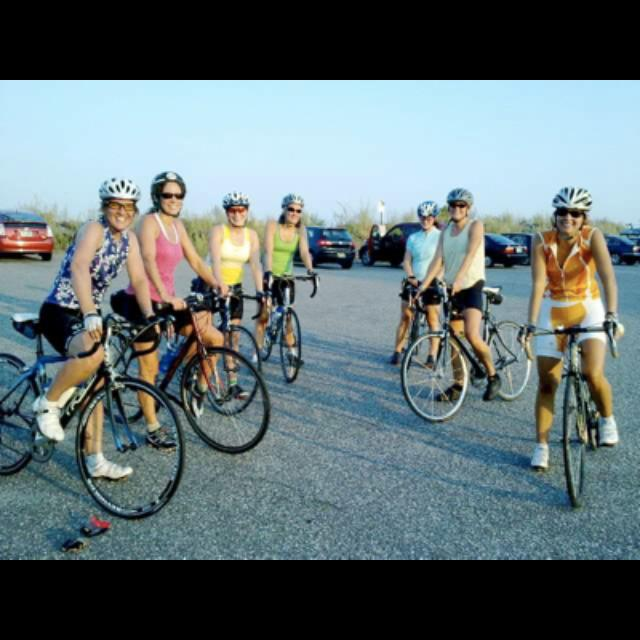With Helmet: (548, 179, 594, 237), (146, 165, 190, 218), (274, 186, 312, 228), (441, 184, 475, 222)
